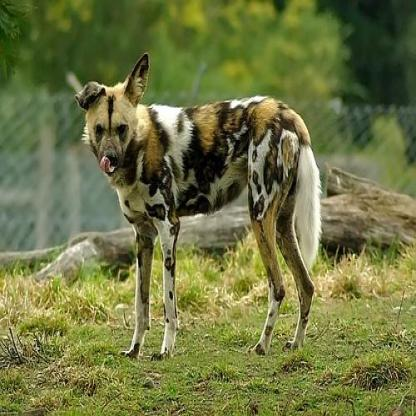African_hunting_dog: (74, 50, 320, 358)
